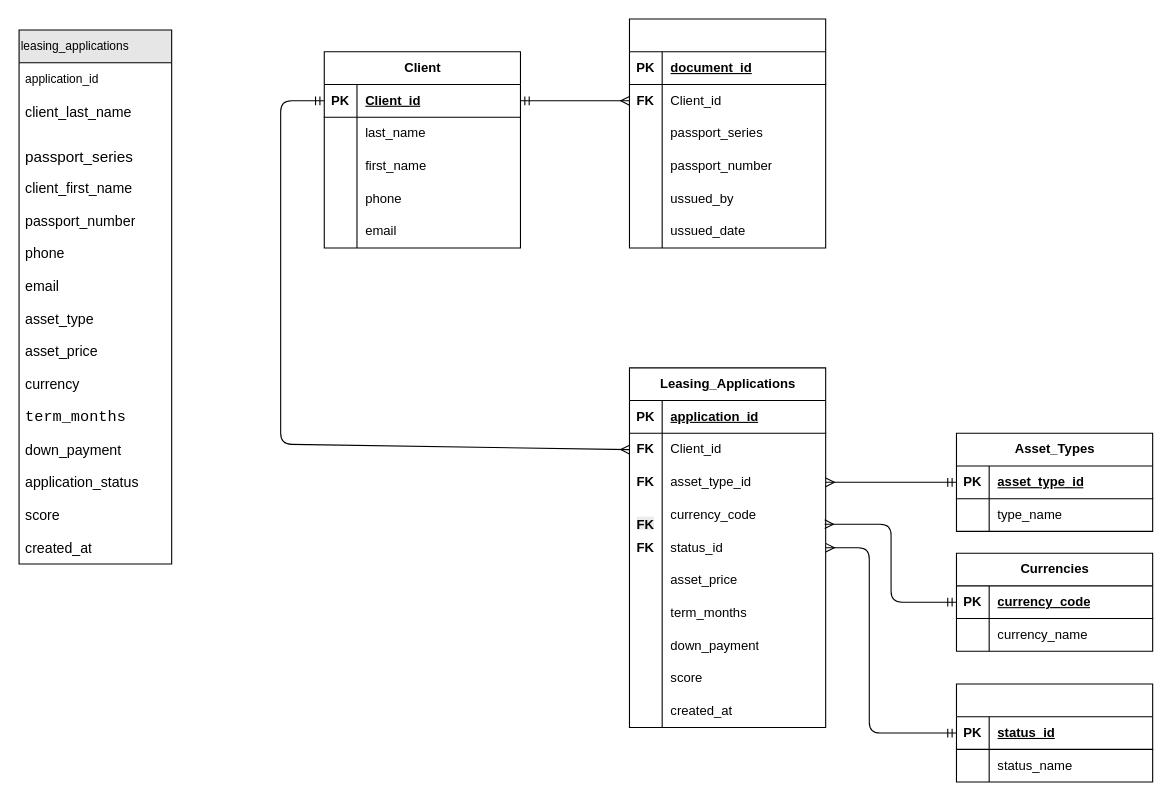
Image size: 1172x801. Some labels were removed from this diagram. The box of each missing label's shape, as (x1, y1, x2, y2) in pixels:
Application_Statuses: (955, 683, 1153, 782)
Client_Documents: (628, 18, 826, 248)
